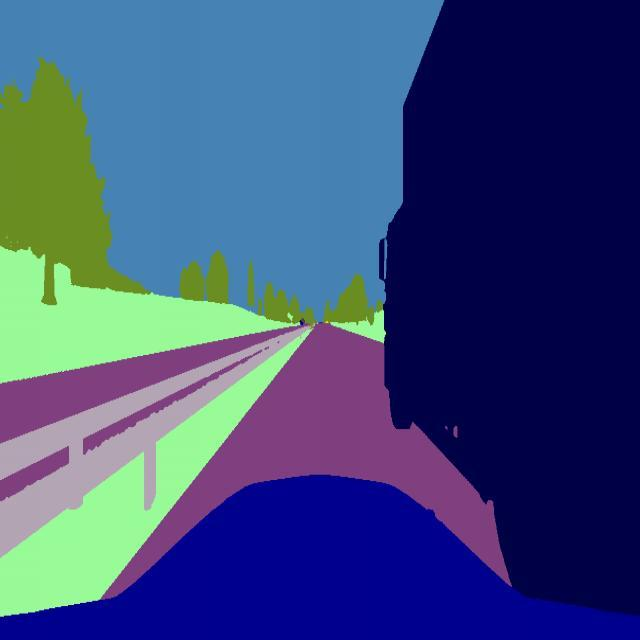unsafe: (378, 0, 639, 623)
